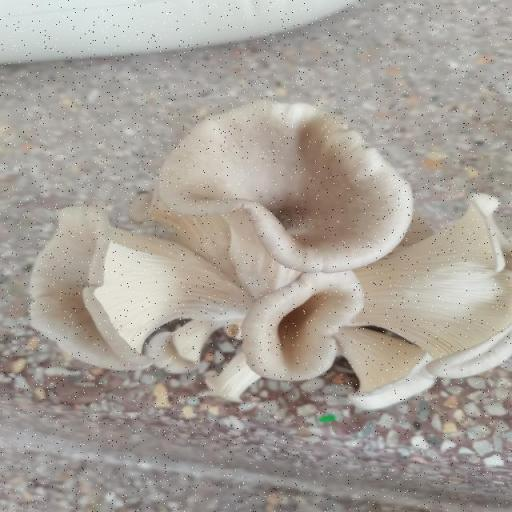White Oyster Mushroom: (10, 86, 512, 430)
